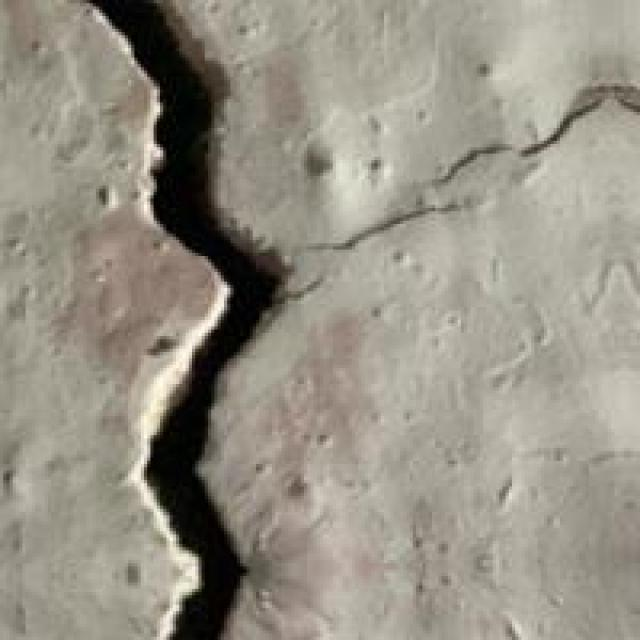crack: (48, 0, 397, 637)
